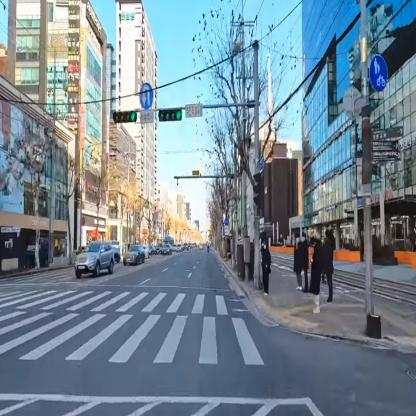Green: (158, 109, 182, 123), (114, 110, 136, 124)
